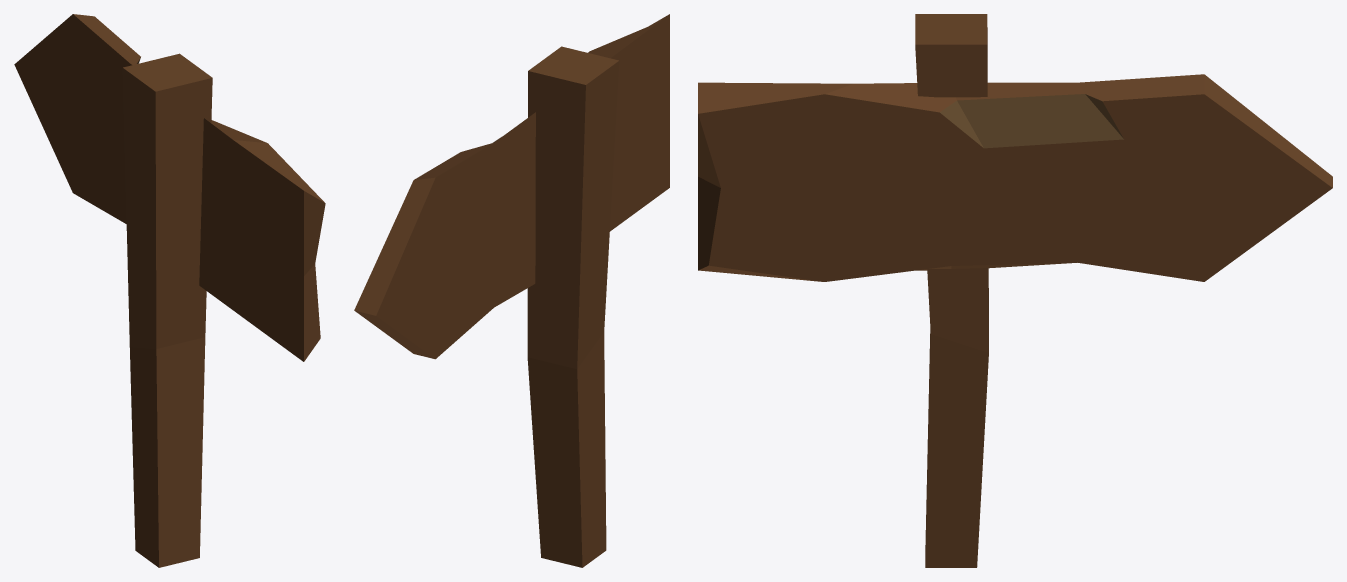
The model's file is Sign.glb.
The picture shows the model from 3 angles, left to right: view 1: azimuth 30°, elevation 25°; view 2: azimuth 150°, elevation 25°; view 3: azimuth 270°, elevation 25°; orthographic projection. The views are drawn at different scales.
Visible parts, largest first — view 1: sign; view 2: sign; view 3: sign.
Boxes of the visible parts, x1,y1,x2,y2 form: sign: (14,14,325,567); sign: (354,14,669,567); sign: (698,14,1332,567).
Size of the model in its own units: 3.48 by 22.55 by 24.58.
1 material, 1 textured.
